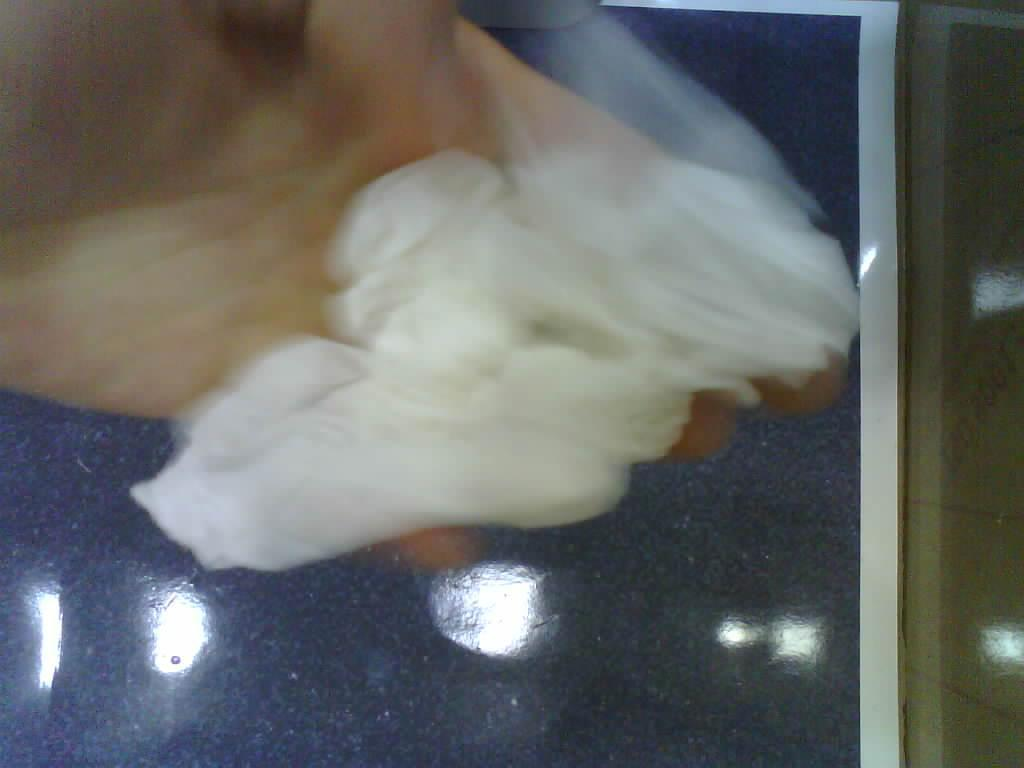paper: (134, 150, 856, 570)
